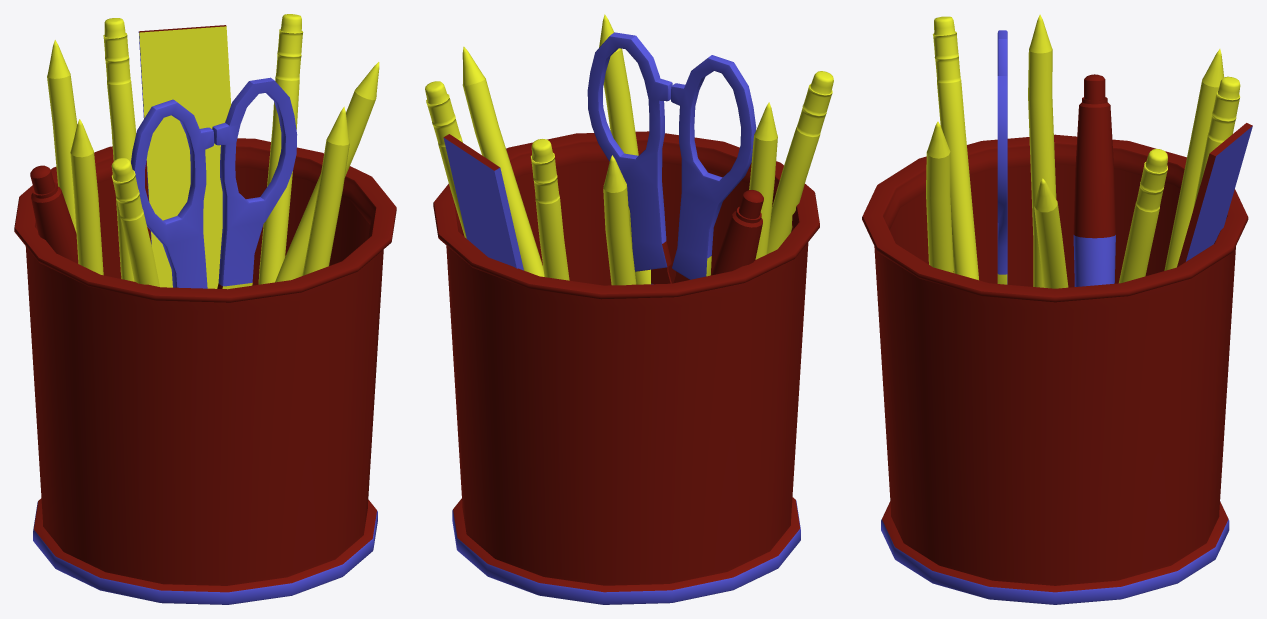
File: pencilpot.fbx
The picture shows the model from 3 angles, left to right: view 1: azimuth 30°, elevation 25°; view 2: azimuth 150°, elevation 25°; view 3: azimuth 270°, elevation 25°; orthographic projection.
Parts seen in each view (by area): view 1: pencilpot; view 2: pencilpot; view 3: pencilpot.
Part boxes in pixels (<box>): pencilpot: <box>14,14,396,604</box>; pencilpot: <box>425,14,833,604</box>; pencilpot: <box>862,14,1252,604</box>.
Size of the model in its own units: 6.66 by 8.91 by 6.73.
